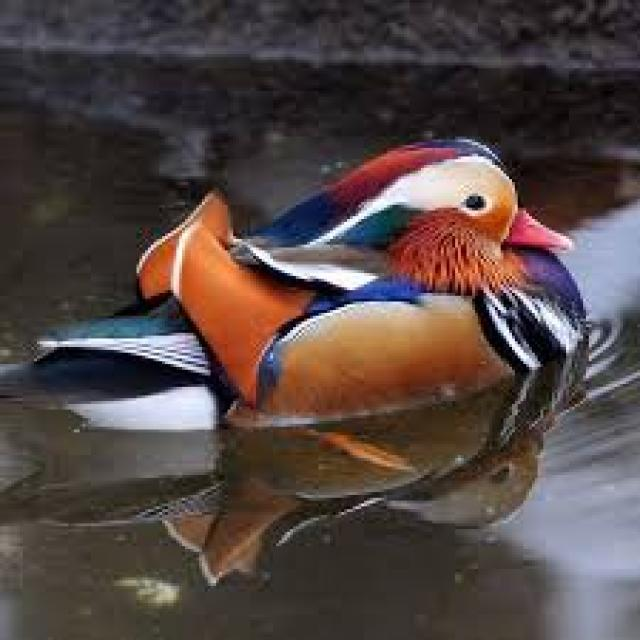Duck: (134, 133, 592, 574)
